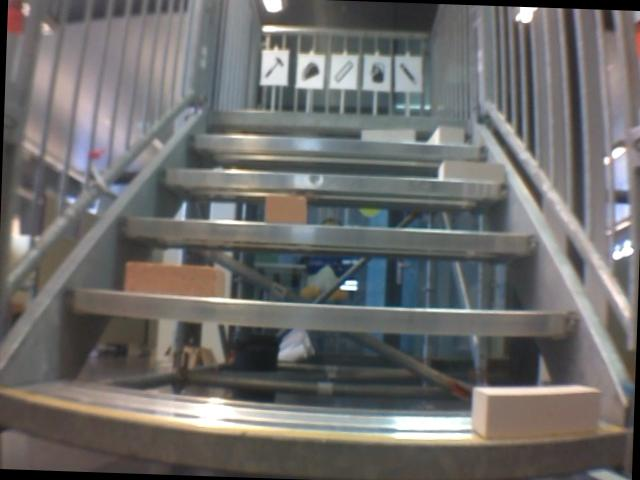brick: (472, 383, 600, 442), (126, 263, 226, 295), (438, 159, 504, 182), (265, 195, 306, 223), (362, 127, 413, 142), (428, 126, 462, 143)
bucket: (367, 57, 389, 84)
edge: (64, 290, 583, 337), (118, 215, 538, 253), (156, 168, 514, 198), (188, 133, 489, 160), (208, 109, 466, 132)
hammer: (262, 54, 287, 82)
pencil: (398, 60, 419, 86)
ruler: (332, 59, 355, 84)
taco: (299, 58, 320, 83)
